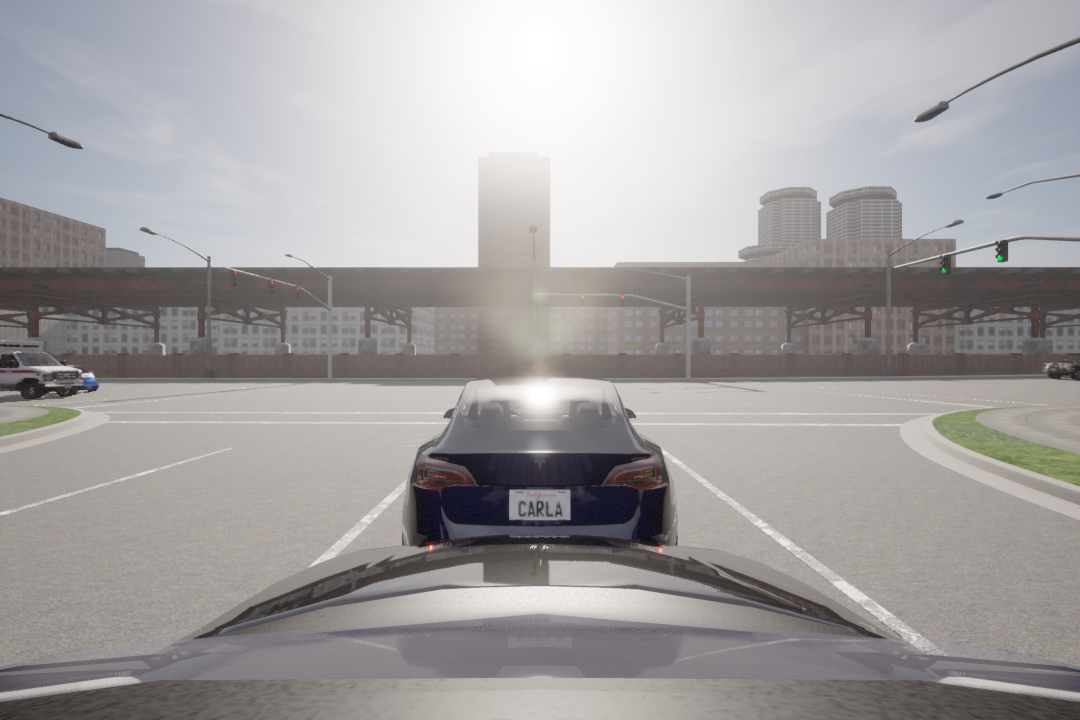TrafficLight: (995, 239, 1011, 263), (939, 253, 953, 276), (263, 277, 276, 294), (230, 267, 240, 288), (293, 284, 303, 303), (620, 292, 627, 307)
